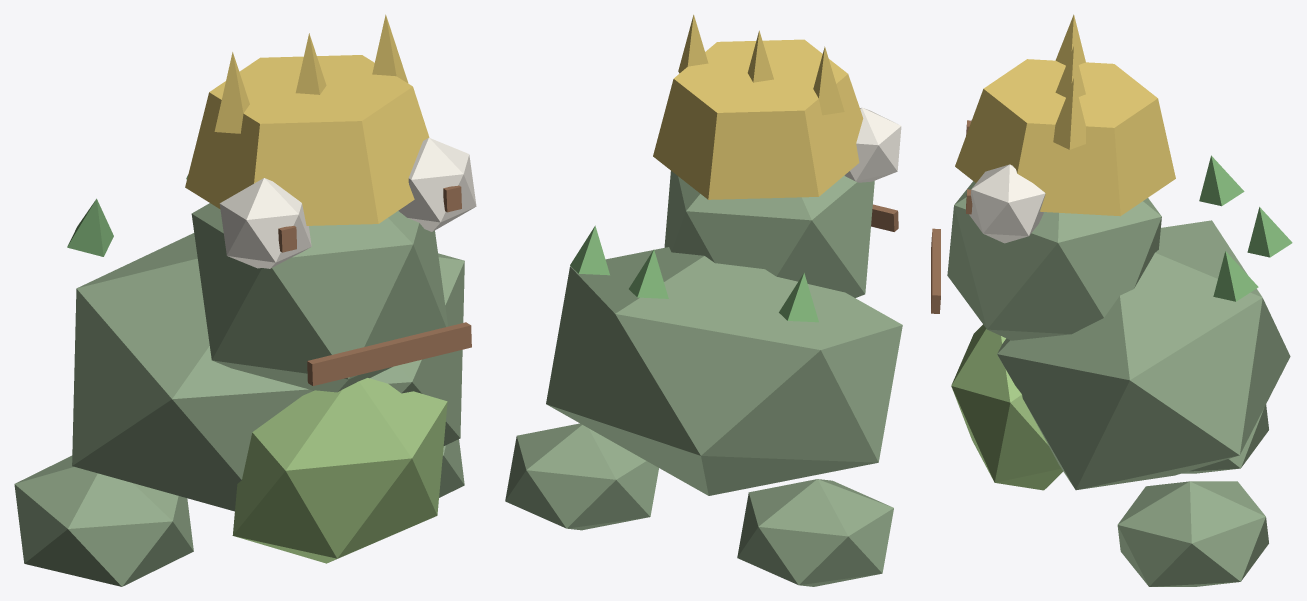
File: npcpose_toad_king_attack_02.glb
3 views of the same model, side by side, from view 1: azimuth 30°, elevation 25°; view 2: azimuth 150°, elevation 25°; view 3: azimuth 270°, elevation 25° (orthographic). The views are drawn at different scales.
Visible parts, largest first — view 1: npcpose; view 2: npcpose; view 3: npcpose.
Part boxes in pixels (x1,y1,x2,y2): npcpose: (14,14,476,586); npcpose: (505,14,902,586); npcpose: (931,14,1292,586).
Size of the model in its own units: 1.75 by 2.2 by 1.49.
